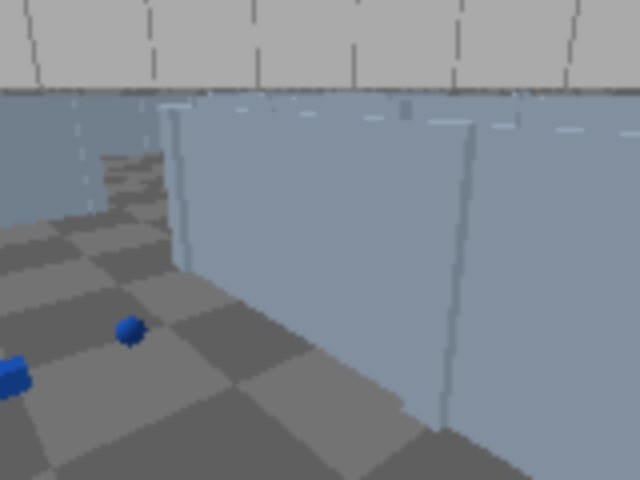puck: (112, 310, 148, 354), (0, 355, 33, 401)
